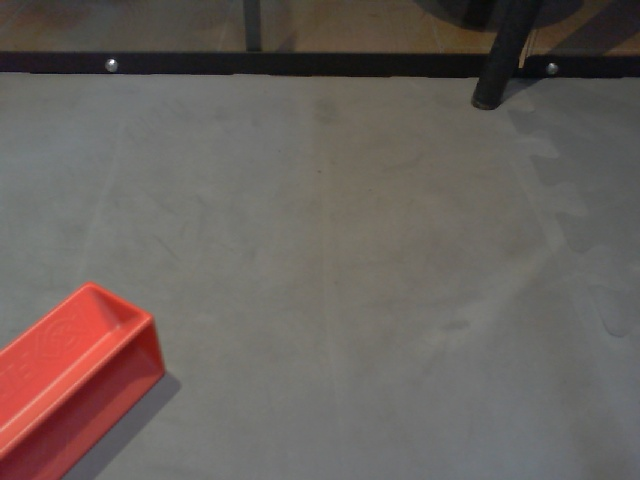RedSample: (2, 278, 170, 480)
